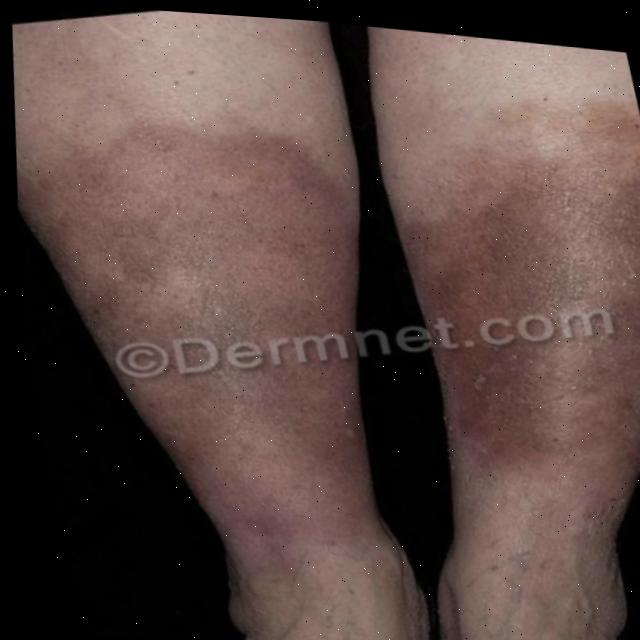Eczema: (43, 125, 386, 496), (418, 125, 640, 494)
